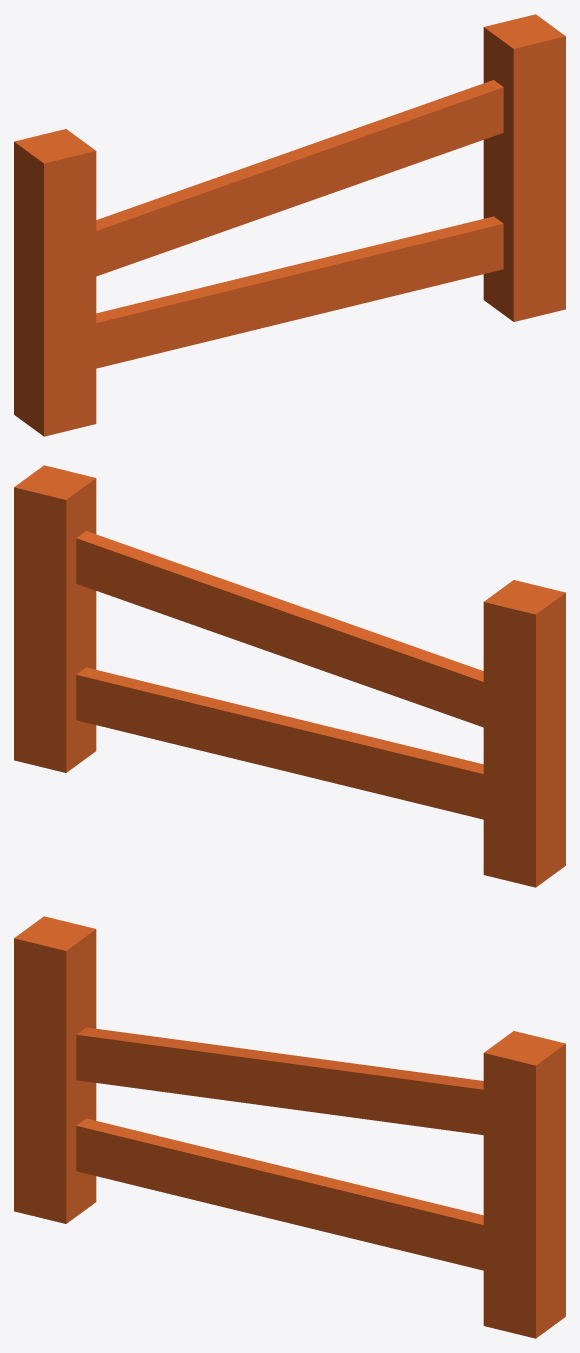
The model's file is Fence.fbx.
The picture shows the model from 3 angles, top to bottom: view 1: azimuth 30°, elevation 25°; view 2: azimuth 150°, elevation 25°; view 3: azimuth 330°, elevation 25°; orthographic projection.
Visible parts, largest first — view 1: Fence; view 2: Fence; view 3: Fence.
Boxes of the visible parts, bbox=[...] form: Fence: bbox=[14, 14, 565, 436]; Fence: bbox=[14, 465, 565, 887]; Fence: bbox=[14, 916, 565, 1338].
Bounding box in the file's own units: 2 × 0.2 × 1.
